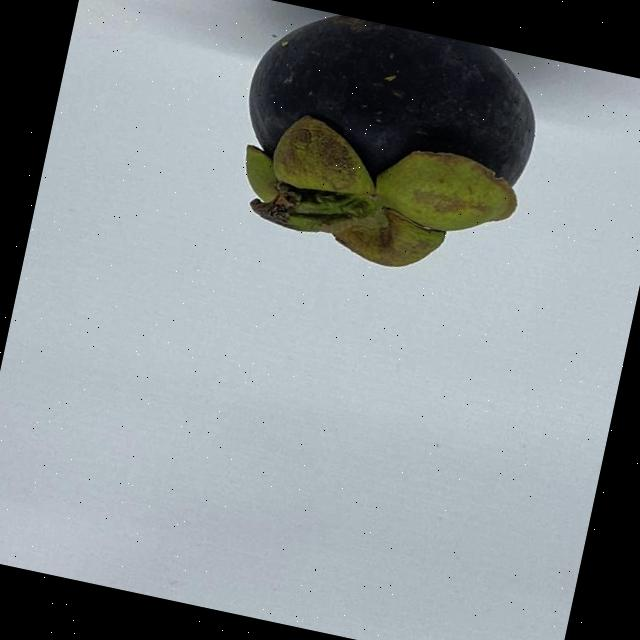mangosteen: (203, 0, 569, 301)
